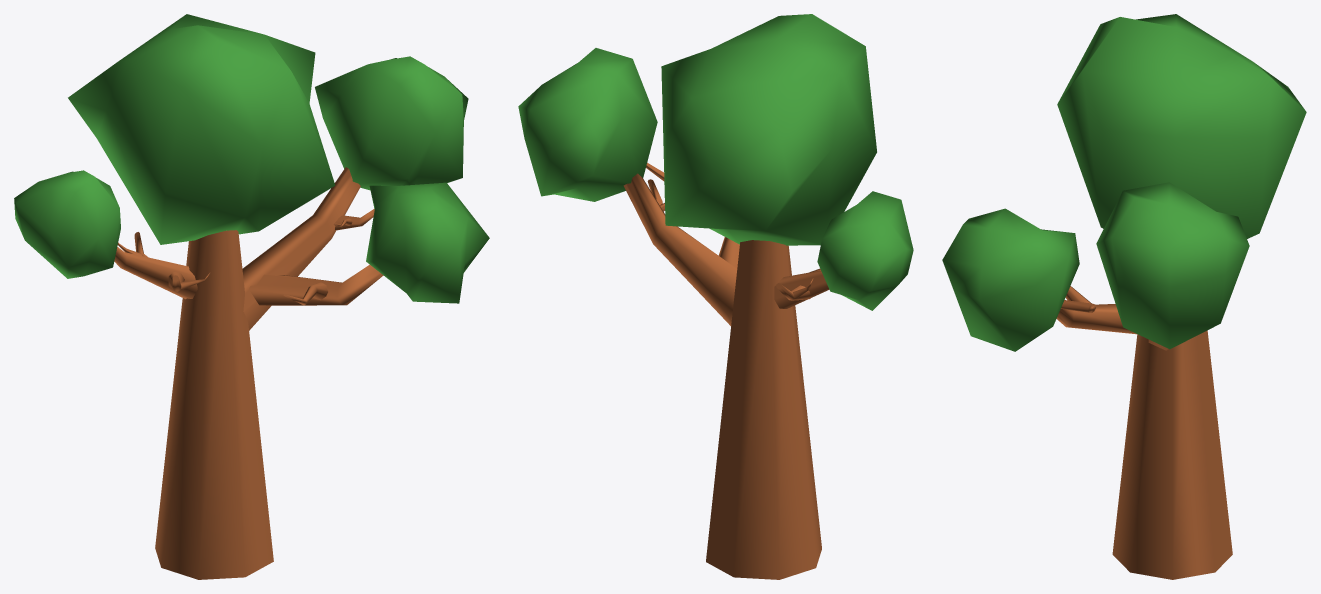
Rendered from agac2.fbx.
The picture shows the model from 3 angles, left to right: view 1: azimuth 30°, elevation 25°; view 2: azimuth 150°, elevation 25°; view 3: azimuth 270°, elevation 25°; orthographic projection. The views are drawn at different scales.
Parts seen in each view (by area): view 1: polySurface22; view 2: polySurface22; view 3: polySurface22.
Boxes of the visible parts, bbox=[...] form: polySurface22: bbox=[14, 14, 489, 579]; polySurface22: bbox=[518, 14, 913, 579]; polySurface22: bbox=[942, 14, 1306, 579].
Size of the model in its own units: 30.74 by 37.29 by 23.36.
